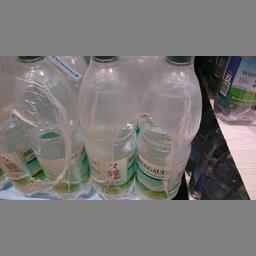water: (13, 55, 88, 199), (137, 55, 200, 199), (78, 55, 136, 199)
